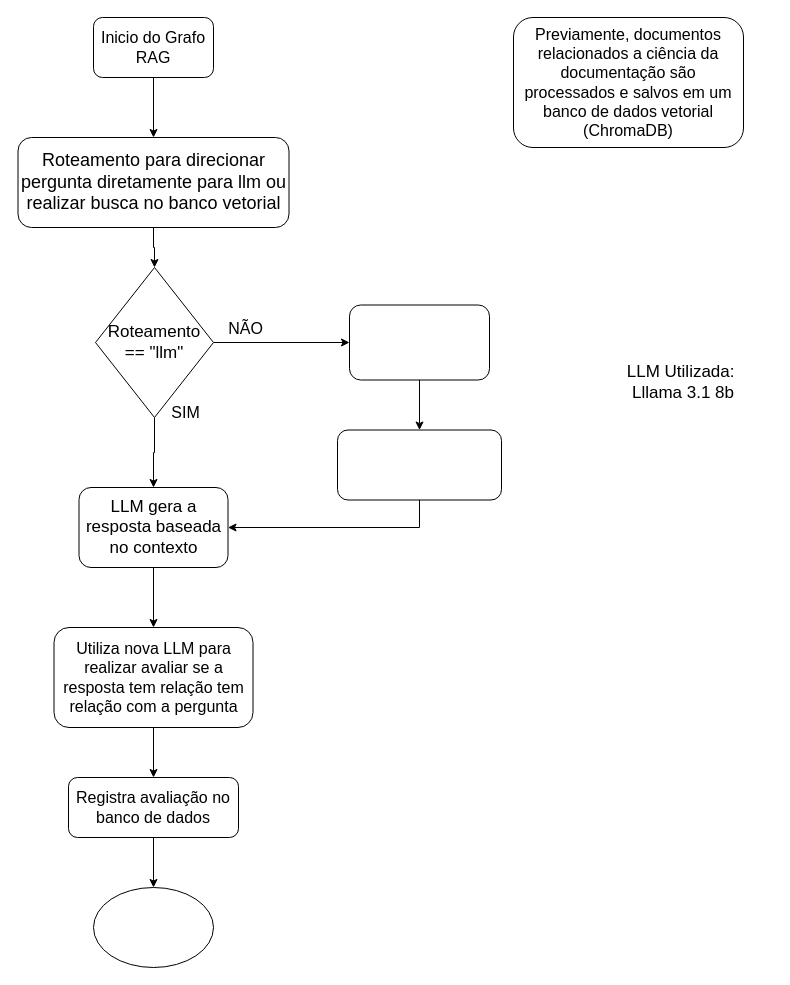
The diagram is 790 pixels wide and 985 high, and some of its shapes have lost their labels. Here are the shapes that lost their labels. From the top down, the box of each, then its label:
(348, 304, 490, 380): Recuperação de contexto do BD vetorial
(336, 429, 502, 500): Desenvolvimento de prompt utilizando o contexto recuperado
(92, 886, 214, 968): FIM
